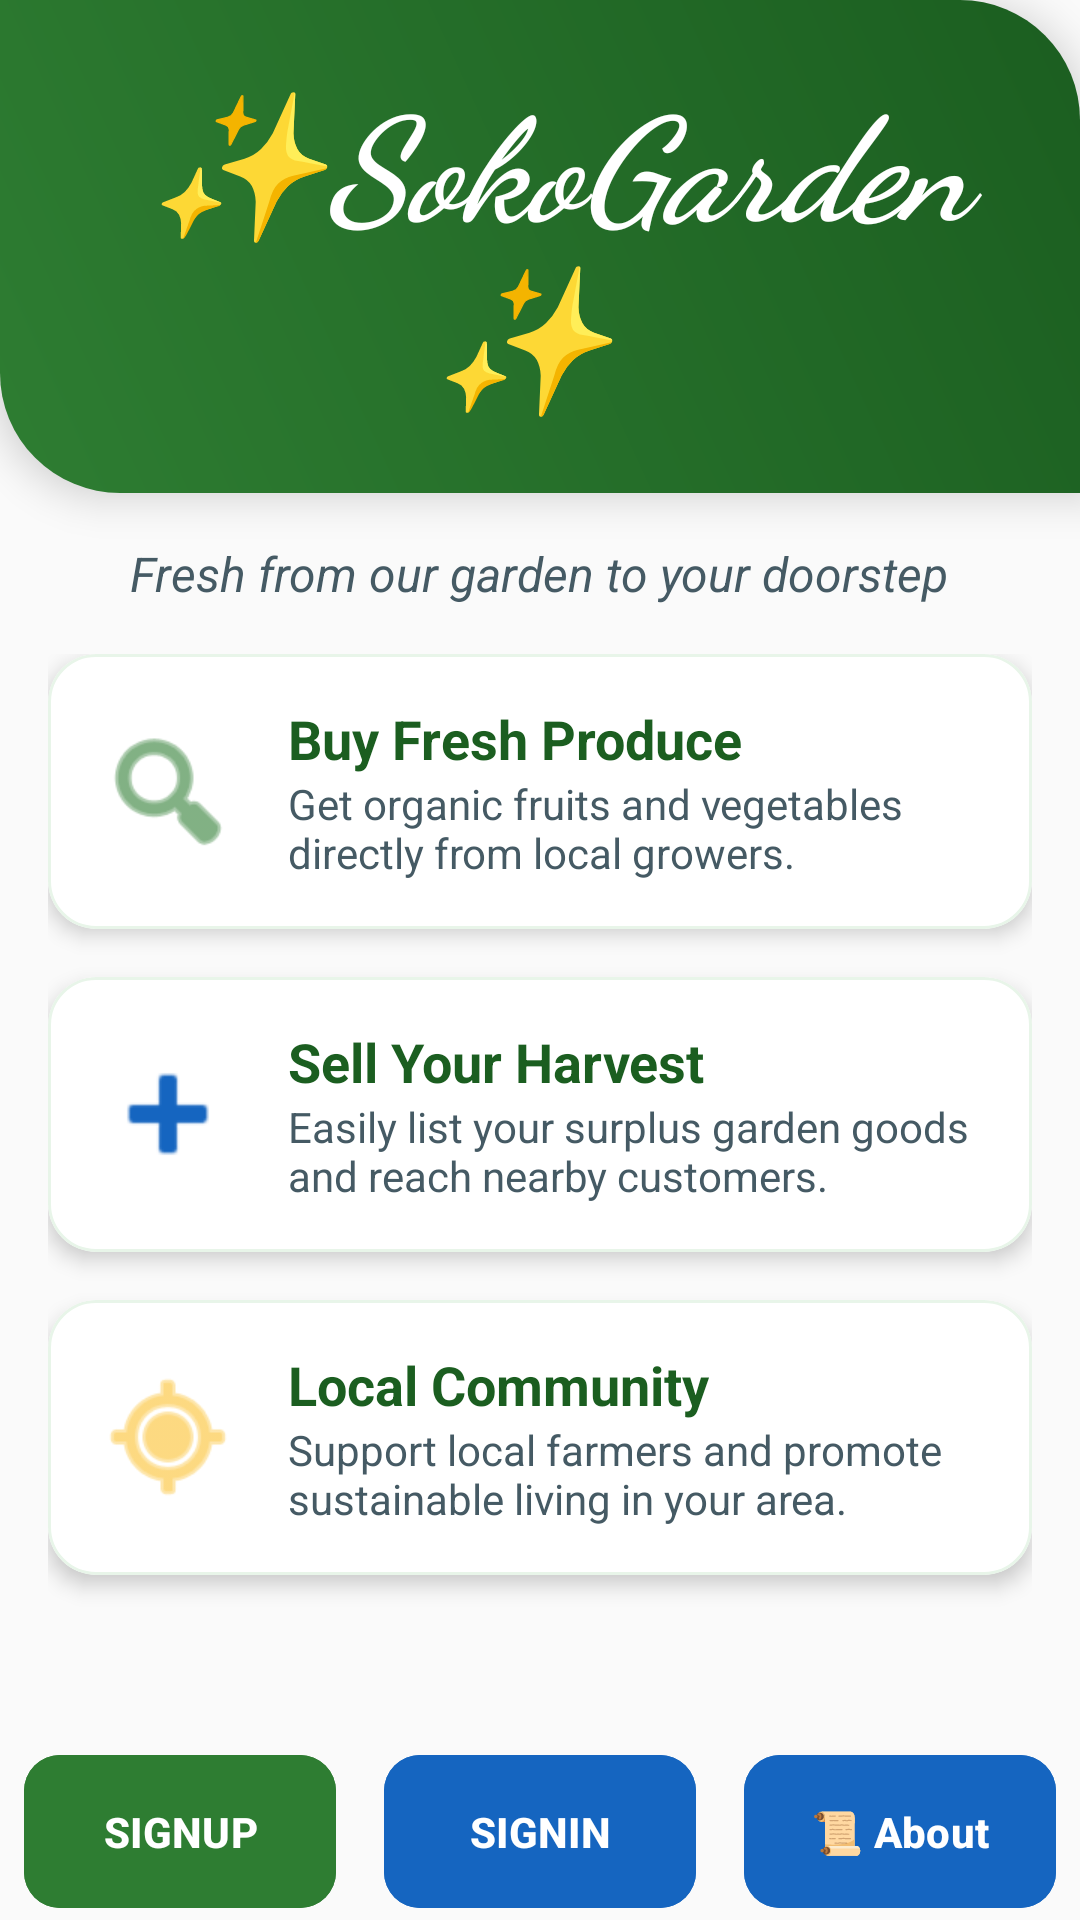

Screen size 1080x1920. Icon name, then its box in pixels as (x1, y1, x2, y2):
Add: (127, 1073, 209, 1155)
Location: (110, 1379, 226, 1495)
Search: (115, 738, 221, 845)
